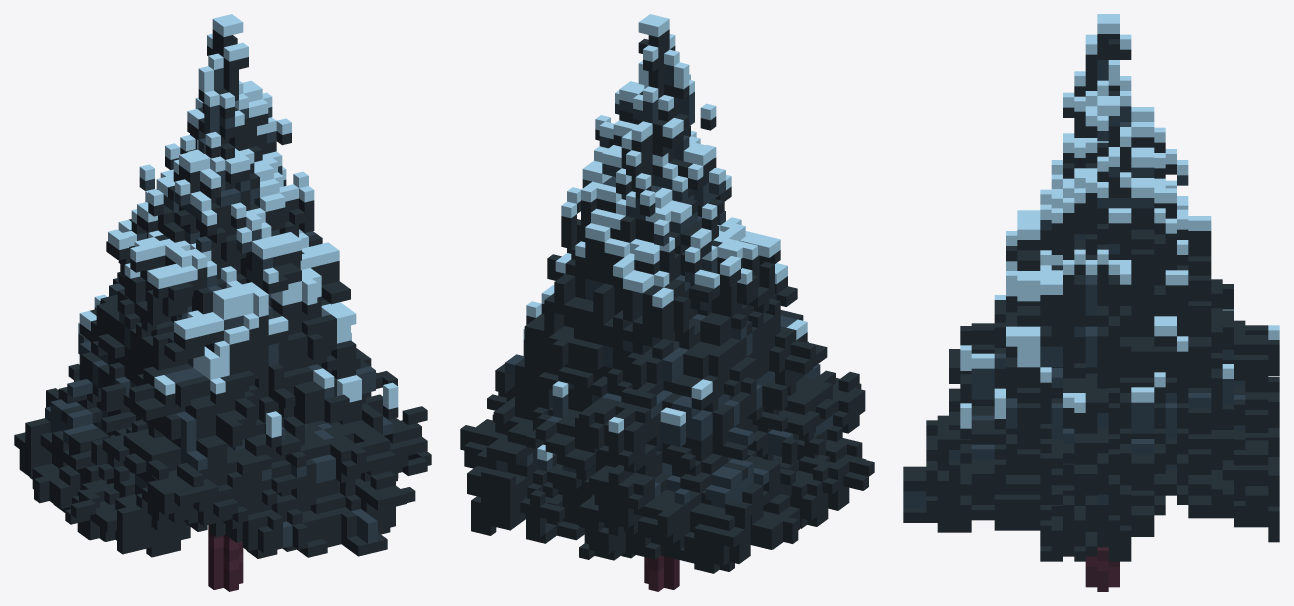
Rendered from Snow_Environment_Deco_Tile_03-8.obj.
3 views of the same model, side by side, from view 1: azimuth 30°, elevation 25°; view 2: azimuth 150°, elevation 25°; view 3: azimuth 270°, elevation 25° (orthographic).
Visible parts, largest first — view 1: Snow_Environment_Deco_Tile_03-8; view 2: Snow_Environment_Deco_Tile_03-8; view 3: Snow_Environment_Deco_Tile_03-8.
Part boxes in pixels (left/top/right/bottom): Snow_Environment_Deco_Tile_03-8: left=14, top=14, right=431, bottom=591; Snow_Environment_Deco_Tile_03-8: left=460, top=14, right=874, bottom=591; Snow_Environment_Deco_Tile_03-8: left=903, top=14, right=1279, bottom=591.
Size of the model in its own units: 33 by 55 by 33.
1 material, 1 textured.
